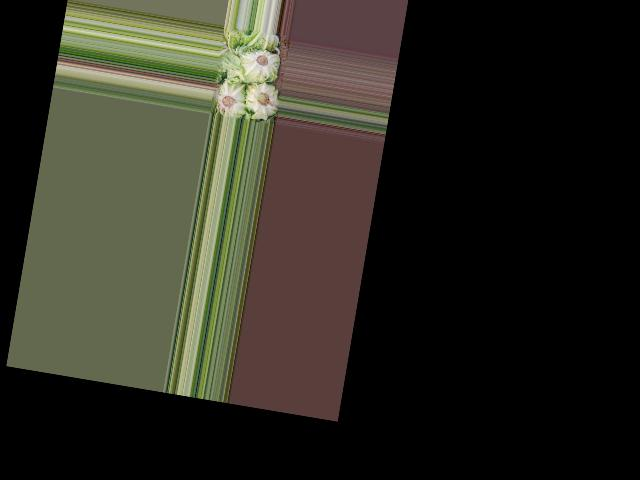lettuce: (213, 79, 249, 119)
